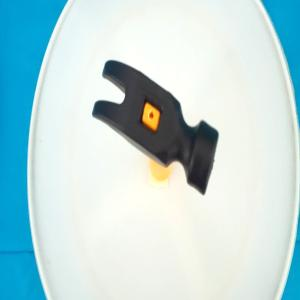martelo: (91, 56, 220, 198)
